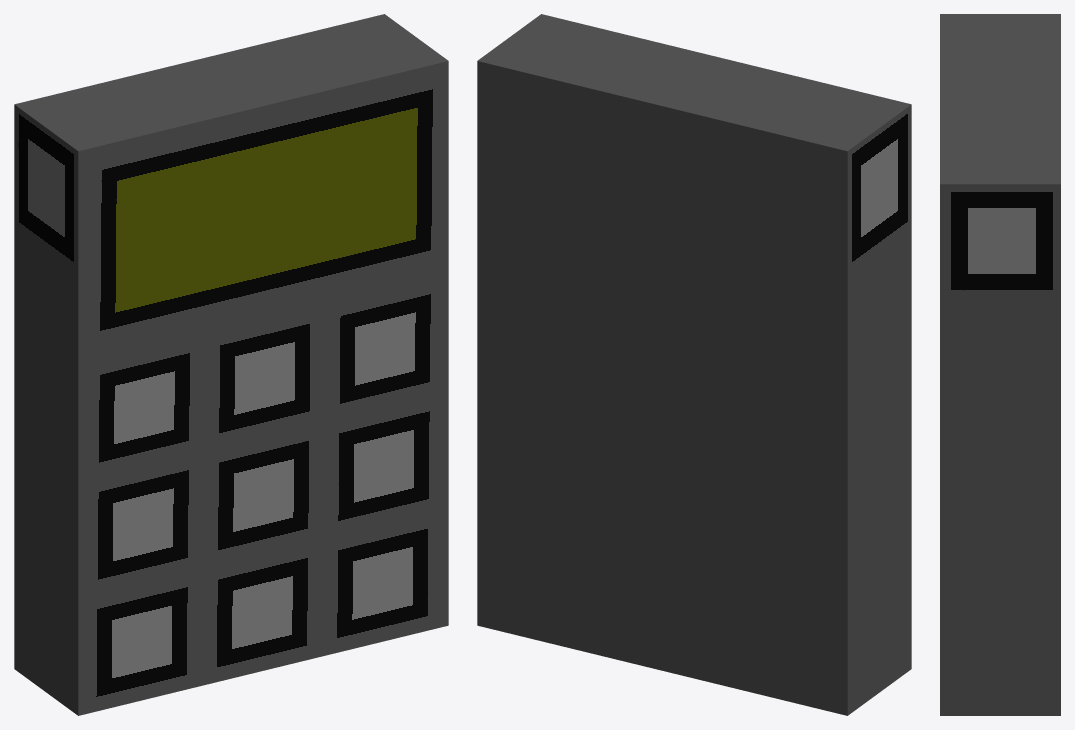
File: Keypad.fbx
The picture shows the model from 3 angles, left to right: view 1: azimuth 30°, elevation 25°; view 2: azimuth 150°, elevation 25°; view 3: azimuth 270°, elevation 25°; orthographic projection. The views are drawn at different scales.
Parts seen in each view (by area): view 1: Keypad; view 2: Keypad; view 3: Keypad.
Boxes of the visible parts, x1,y1,x2,y2 form: Keypad: [14, 14, 448, 715]; Keypad: [477, 14, 911, 715]; Keypad: [940, 14, 1060, 715].
Size of the model in its own units: 16 by 23.31 by 4.8.
Materials: 1 (1 with a texture image).
